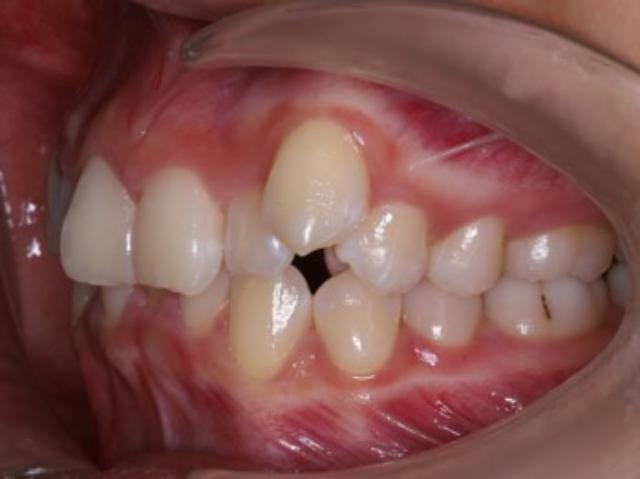canine class II 1/4: (225, 120, 408, 389)
molar class I: (483, 212, 621, 344)
